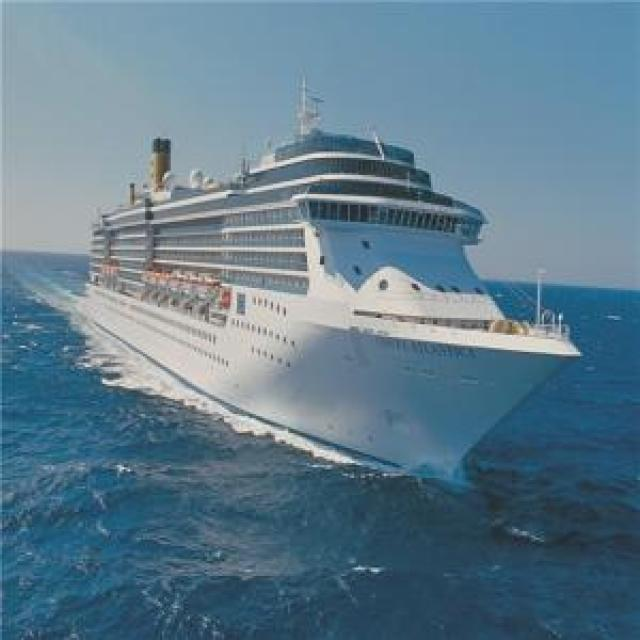passenger ship: (69, 96, 580, 482)
